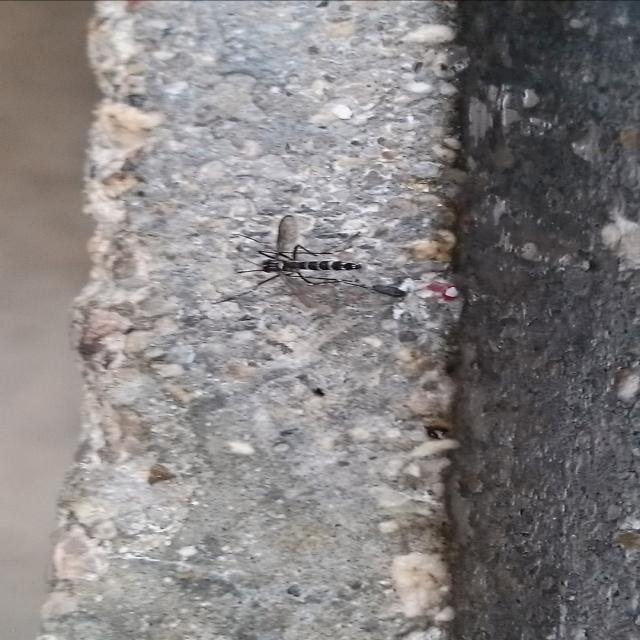albopictus: (208, 204, 415, 317)
